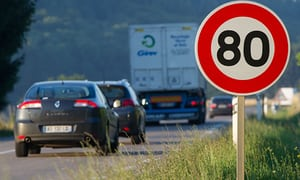Speed_limit_80km: (191, 1, 291, 95)
